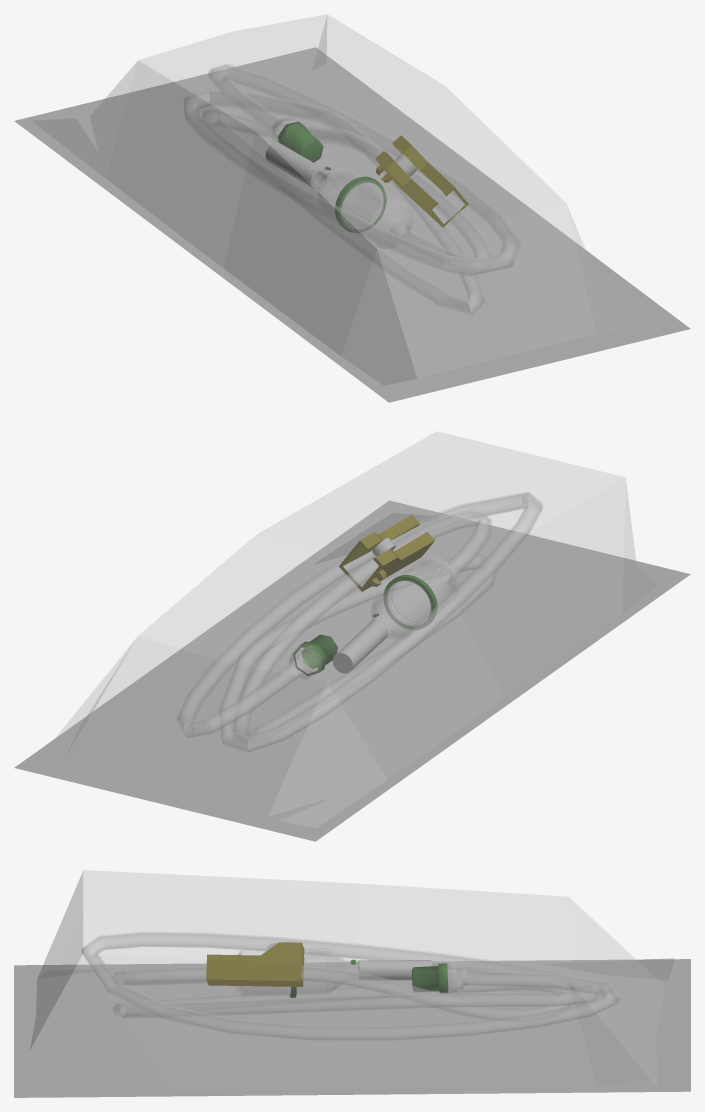
The model's file is 1_Infusion_packed.gltf.
3 renders of one model, top to bottom at view 1: azimuth 30°, elevation 25°; view 2: azimuth 150°, elevation 25°; view 3: azimuth 270°, elevation 25°, orthographic. The views are drawn at different scales.
Visible parts, largest first — view 1: packungobenteil, packunguntenteil, Gutschlauch, Dickschlauch, Einsteller, Decker, Gruenrunddecker, Gruenring; view 2: packungobenteil, packunguntenteil, Gutschlauch, Dickschlauch, Einsteller, Decker, Gruenrunddecker, Gruenring, Schlauchende; view 3: packungobenteil, packunguntenteil, Gutschlauch, Einsteller, Dickschlauch, Decker, Gruenrunddecker, Schlauchende.
Boxes of the visible parts, bbox=[...] form: packungobenteil: bbox=[32, 14, 662, 385]; packunguntenteil: bbox=[14, 47, 690, 402]; Gutschlauch: bbox=[184, 64, 520, 314]; Dickschlauch: bbox=[311, 168, 412, 248]; Einsteller: bbox=[375, 135, 468, 227]; Decker: bbox=[265, 142, 328, 189]; Gruenrunddecker: bbox=[277, 121, 323, 162]; Gruenring: bbox=[325, 166, 386, 232]; packungobenteil: bbox=[40, 431, 658, 827]; packunguntenteil: bbox=[14, 500, 690, 841]; Gutschlauch: bbox=[177, 492, 542, 752]; Dickschlauch: bbox=[371, 557, 458, 639]; Einsteller: bbox=[339, 515, 435, 591]; Decker: bbox=[332, 620, 387, 673]; Gruenrunddecker: bbox=[293, 634, 337, 675]; Gruenring: bbox=[373, 575, 437, 629]; Schlauchende: bbox=[289, 646, 321, 679]; packungobenteil: bbox=[29, 870, 673, 1091]; packunguntenteil: bbox=[14, 959, 690, 1097]; Gutschlauch: bbox=[82, 932, 619, 1039]; Einsteller: bbox=[206, 942, 304, 986]; Dickschlauch: bbox=[234, 948, 359, 996]; Decker: bbox=[358, 960, 431, 980]; Gruenrunddecker: bbox=[411, 963, 448, 993]; Schlauchende: bbox=[447, 963, 467, 992].
Bounding box in the file's own units: 2.58 × 0.9754 × 5.56.
